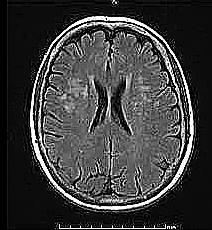Normal_Brain: (18, 1, 212, 230)
